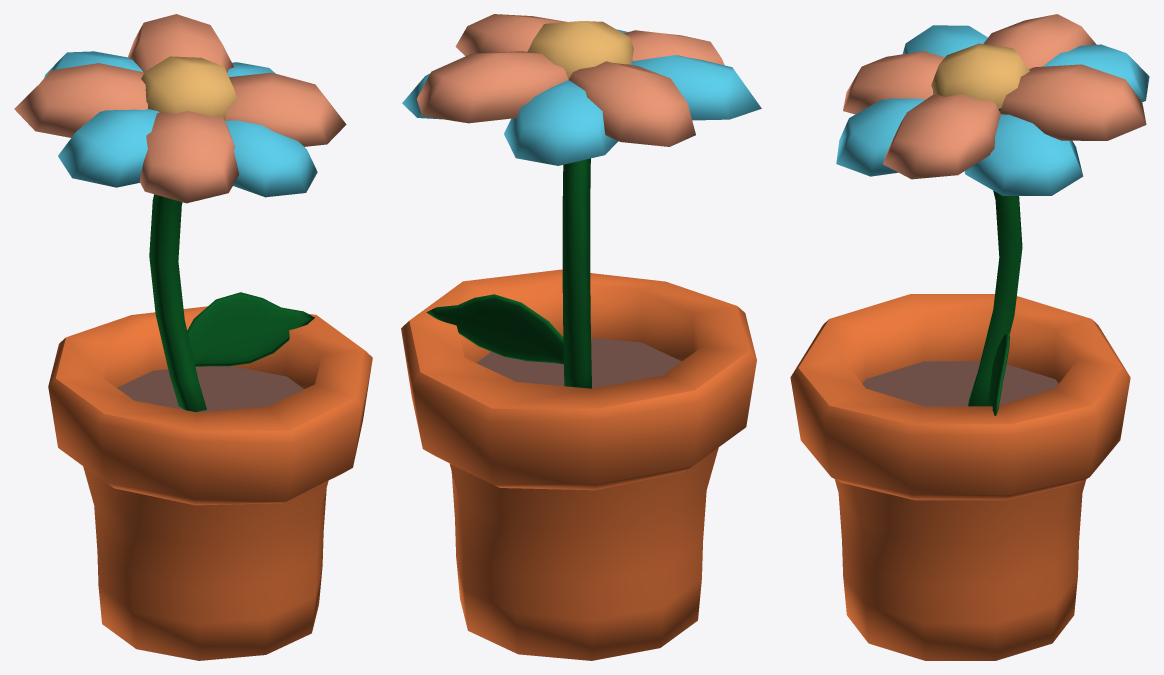
File: props_flower_pot_2.fbx
3 views of the same model, side by side, from view 1: azimuth 30°, elevation 25°; view 2: azimuth 150°, elevation 25°; view 3: azimuth 270°, elevation 25° (orthographic). The views are drawn at different scales.
Visible parts, largest first — view 1: Cylinder.004; view 2: Cylinder.004; view 3: Cylinder.004.
Part boxes in pixels (bbox=[...]): Cylinder.004: bbox=[14, 14, 372, 660]; Cylinder.004: bbox=[401, 14, 761, 660]; Cylinder.004: bbox=[790, 14, 1149, 660].
Bounding box in the file's own units: 41.56 × 74.96 × 43.59.
